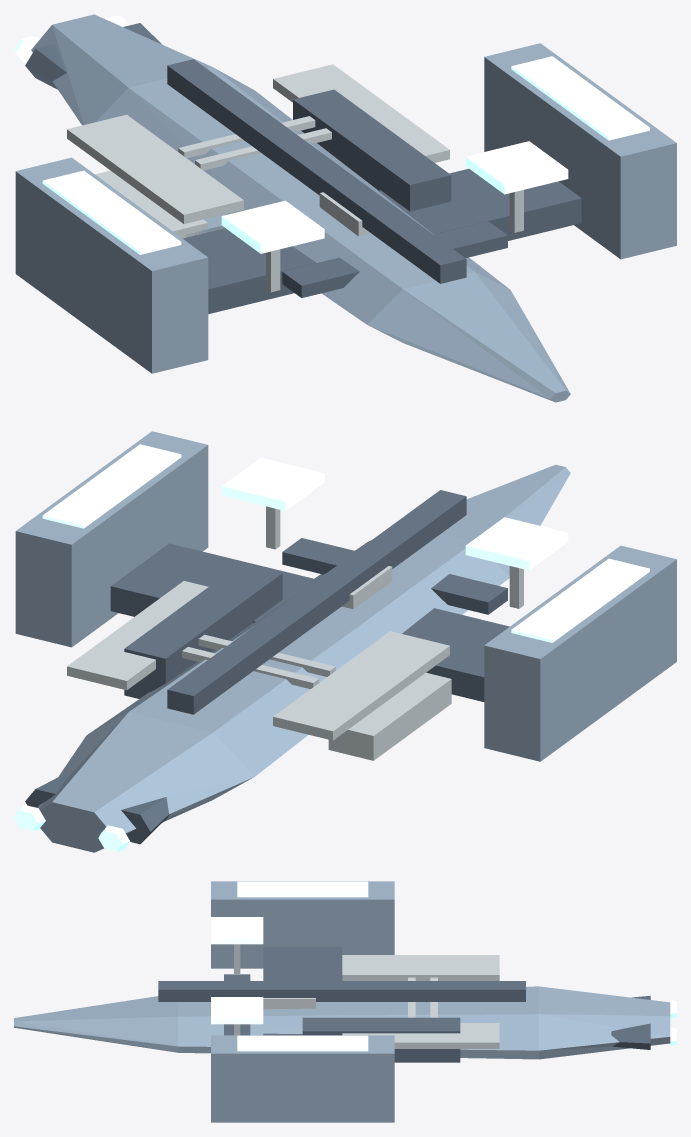
The picture shows the model from 3 angles, top to bottom: view 1: azimuth 30°, elevation 25°; view 2: azimuth 150°, elevation 25°; view 3: azimuth 270°, elevation 25°; orthographic projection. The views are drawn at different scales.
Size of the model in its own units: 6.22 by 1.35 by 10.1.
